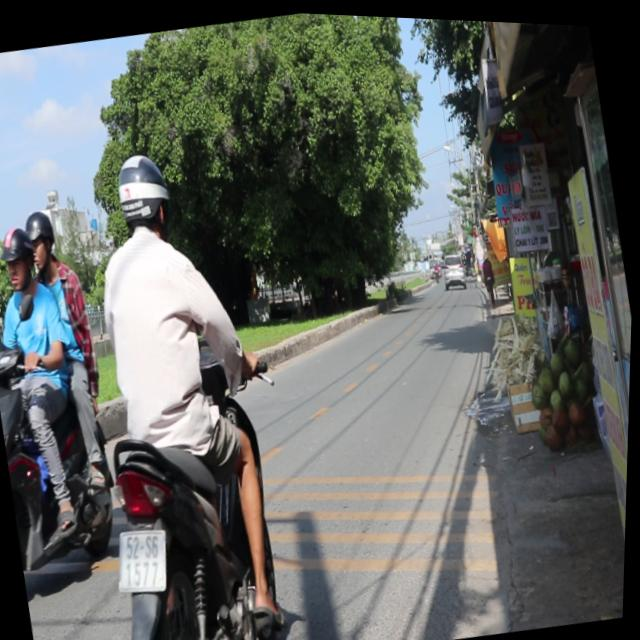helmet: (107, 143, 178, 244), (0, 220, 41, 299), (18, 204, 62, 276)
licenseplate: (39, 129, 321, 640), (0, 199, 141, 601)
nohelmet: (112, 522, 174, 592)
